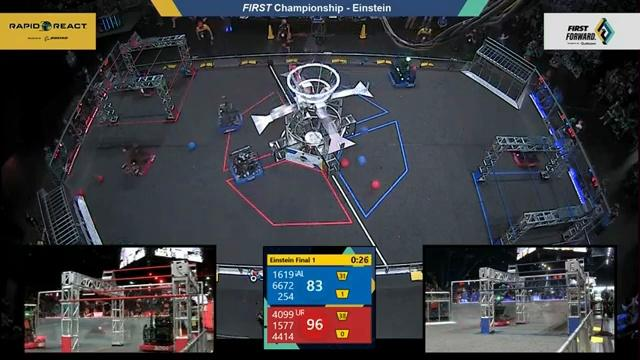robot: (223, 142, 268, 189), (140, 312, 187, 353), (212, 91, 253, 134), (118, 139, 162, 178), (384, 53, 425, 89), (508, 134, 545, 167), (24, 308, 47, 351), (494, 298, 512, 327)
